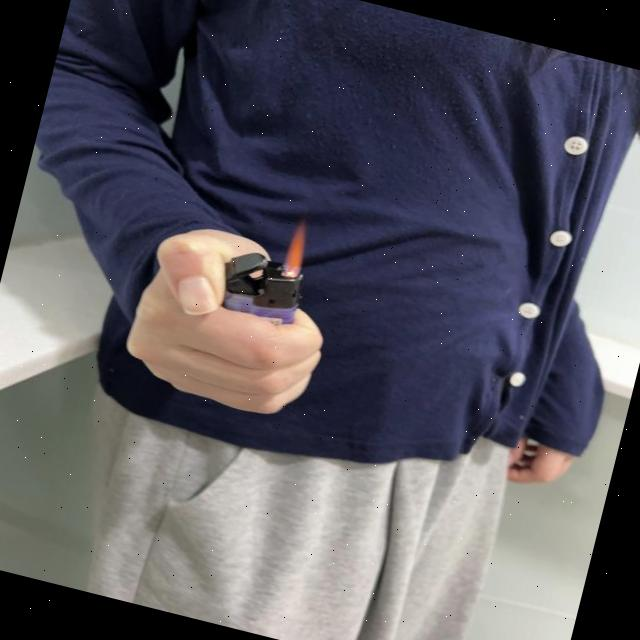fire: (280, 216, 316, 281)
